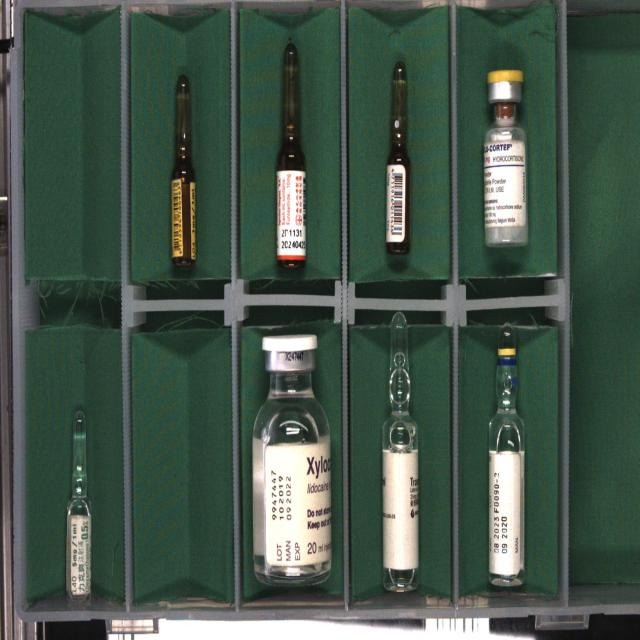Vials: (252, 335, 330, 585), (484, 69, 528, 247)
